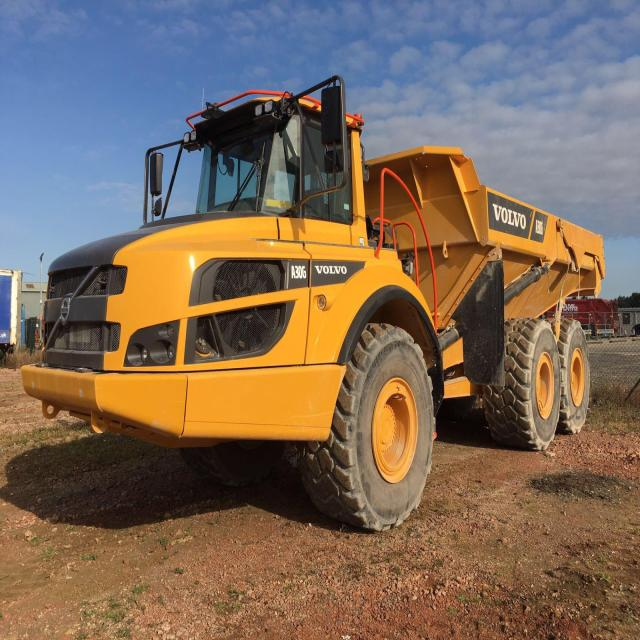dump_truck: (19, 75, 615, 534)
